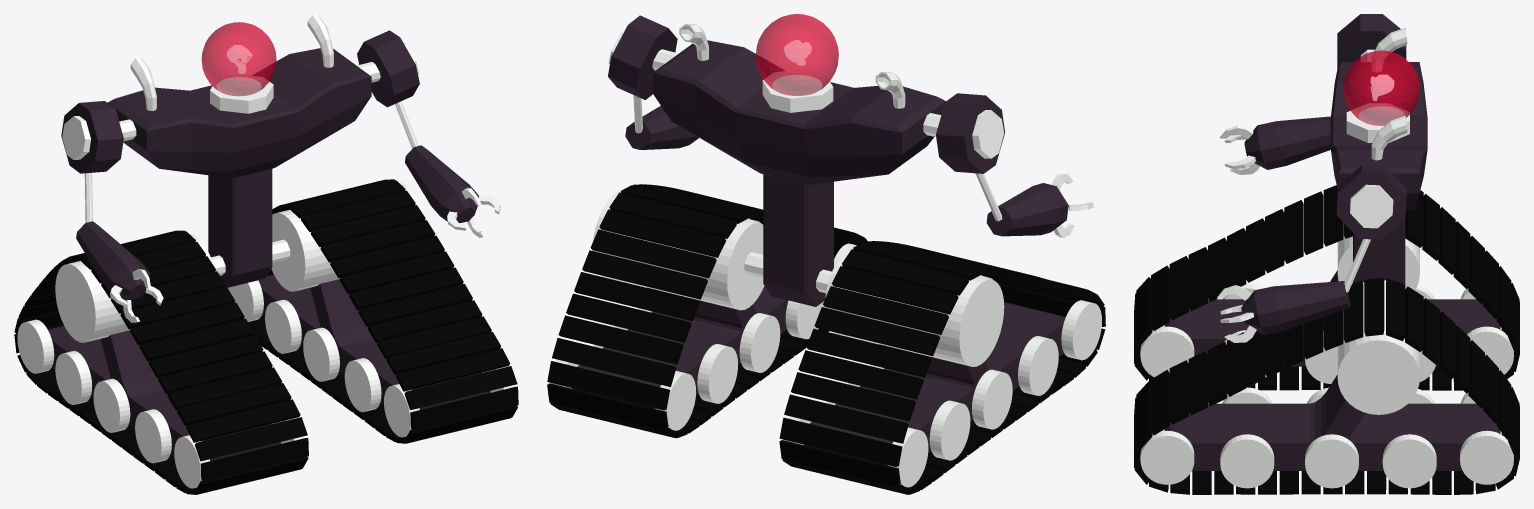
The model's file is asset6.glb.
3 renders of one model, left to right at view 1: azimuth 30°, elevation 25°; view 2: azimuth 150°, elevation 25°; view 3: azimuth 270°, elevation 25°, orthographic. The views are drawn at different scales.
Parts seen in each view (by area): view 1: busto.002; view 2: busto.002; view 3: busto.002.
Boxes of the visible parts, x1,y1,x2,y2 form: busto.002: (14, 14, 518, 494); busto.002: (547, 14, 1105, 494); busto.002: (1134, 14, 1519, 494).
Bounding box in the file's own units: 5.98 × 5.3 × 5.11.
